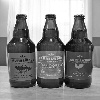beer: (7, 13, 37, 87)
